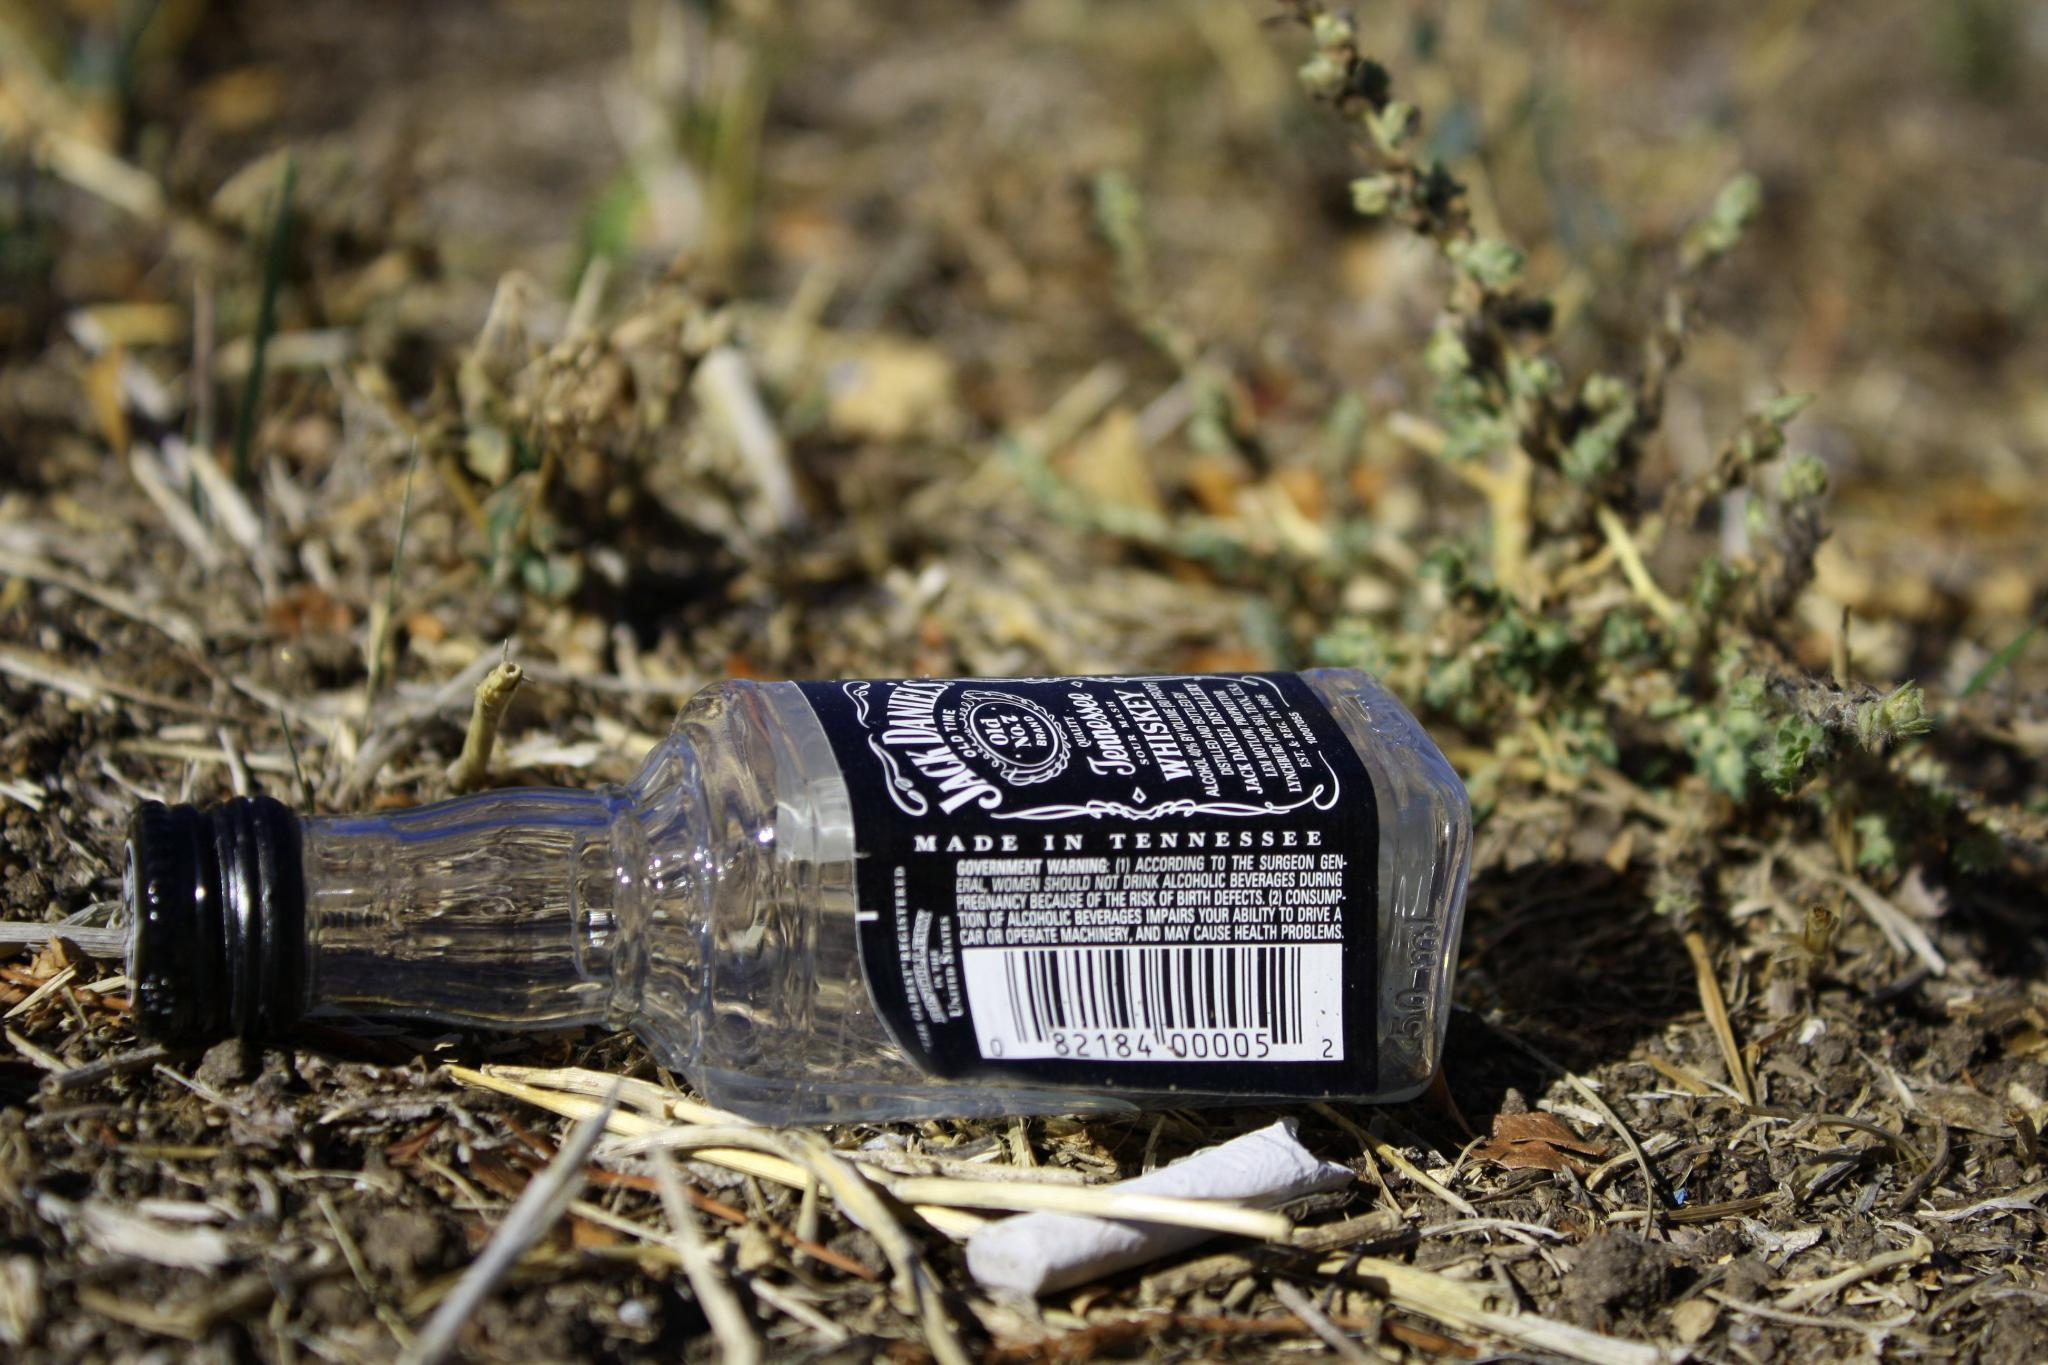Glass: (75, 646, 1491, 1117), (64, 679, 65, 682)
